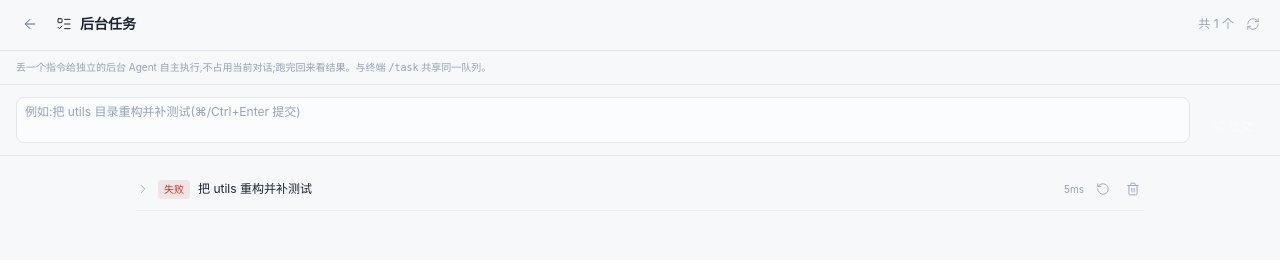
TaskPanel 重试按钮 › add 失败时**不删**原记录 —— 否则 prompt 跟着一起没了
This screenshot has width=1280, height=260.
Click the button with test id "task-retry". click: (1103, 189)
box: [1092, 178, 1114, 200]
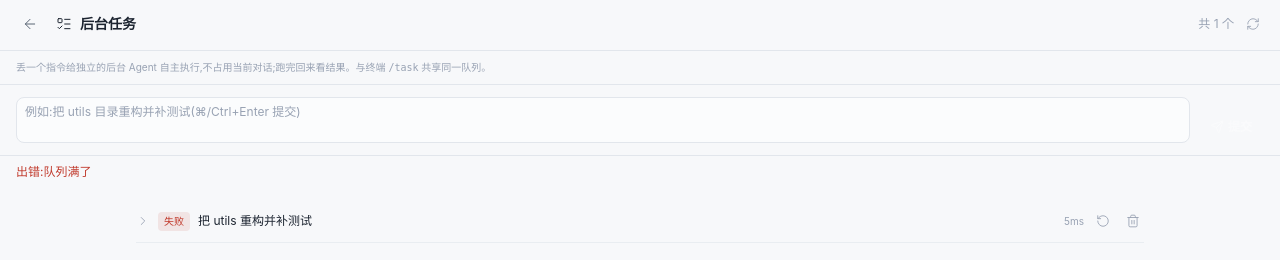
Expected: the text "出错:队列满了" is shown, [16, 164, 92, 179]
